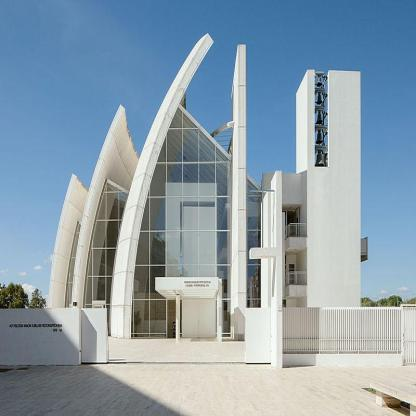Balcony: (285, 224, 307, 240), (285, 272, 306, 286)
Building Outline: (0, 32, 416, 369)
Deco: (8, 322, 63, 332), (184, 279, 212, 288)
Door: (183, 299, 216, 337), (287, 212, 295, 236), (289, 264, 295, 285)
Facade: (0, 31, 415, 368)
Glass Wall: (131, 107, 231, 338), (83, 182, 127, 336), (247, 179, 261, 337), (64, 222, 81, 335)
Pillar: (218, 279, 222, 340), (176, 295, 181, 339)
